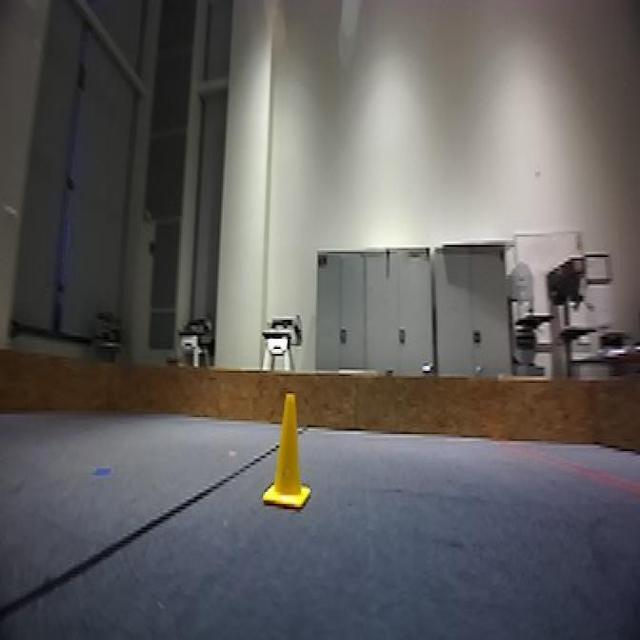frc_cone: (264, 398, 315, 518)
